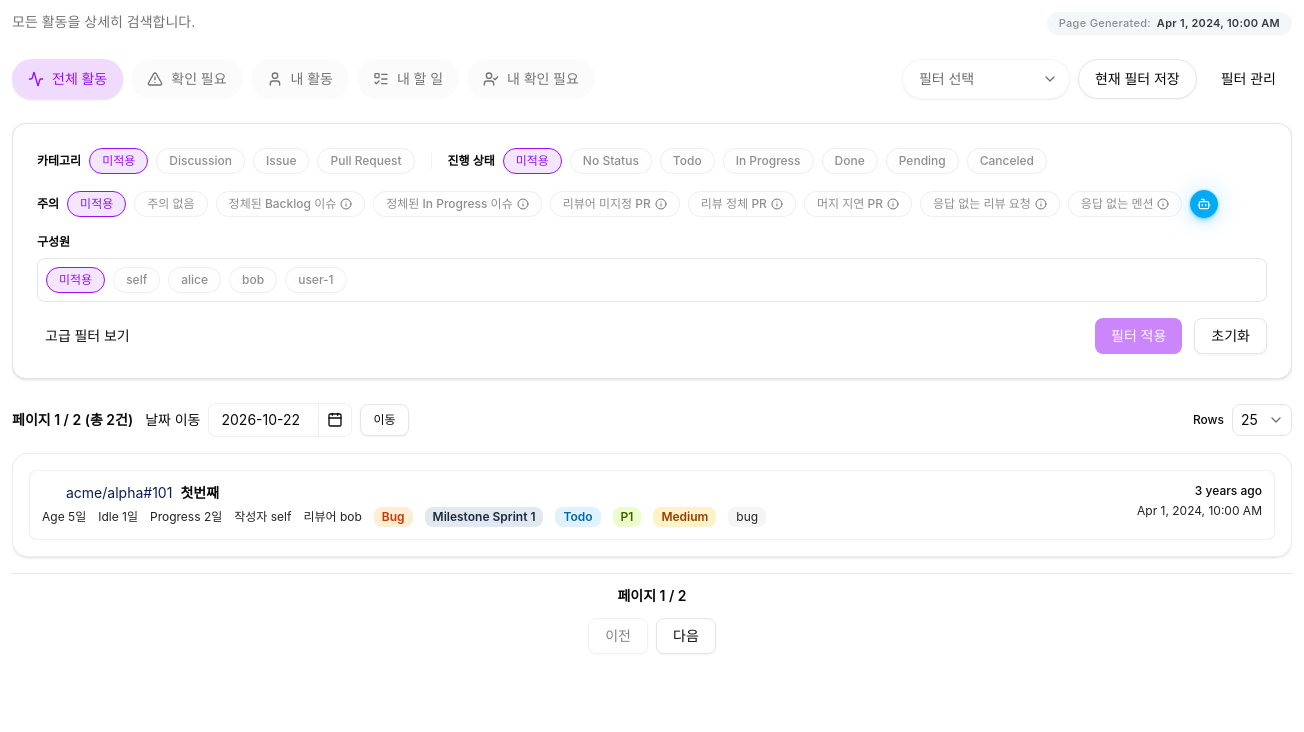
it: ActivityView › changes page and fetches next results
Click the button "다음". click: (686, 636)
box: [656,618,716,654]
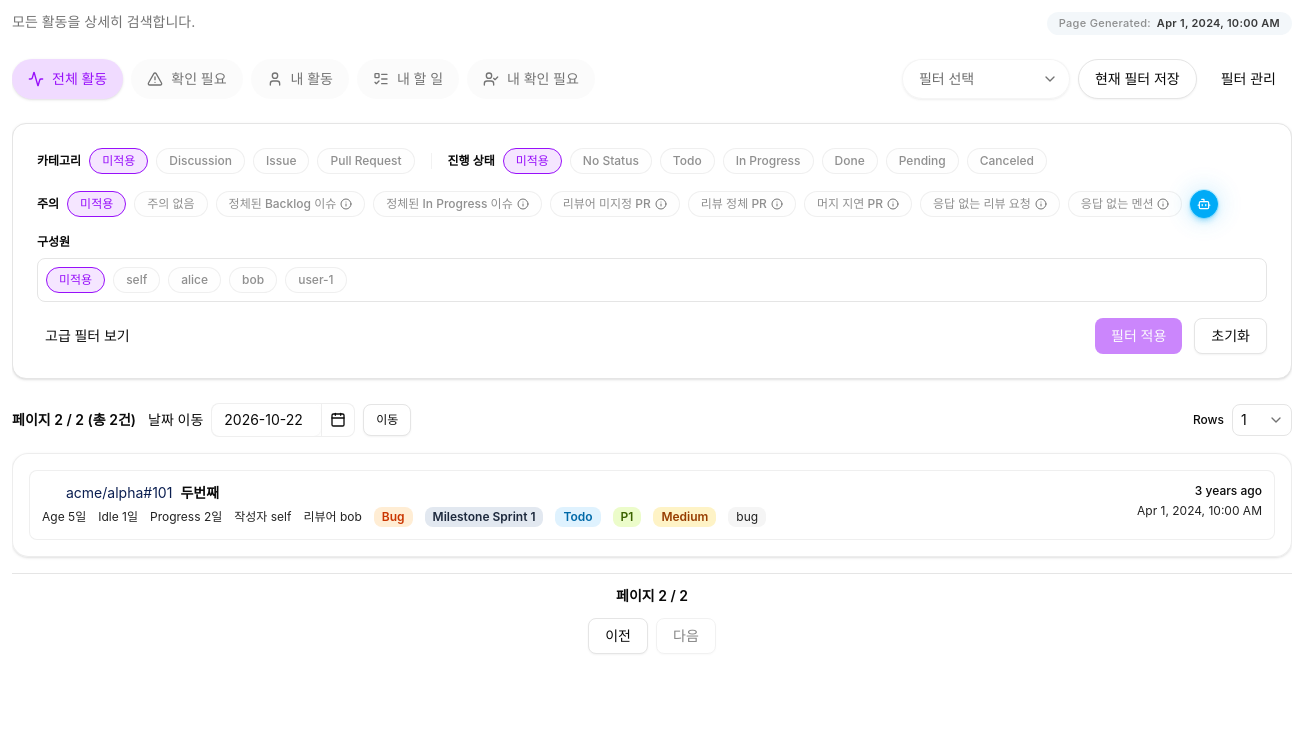
Now the text "두번째" is shown, box [180,484,219,501]
